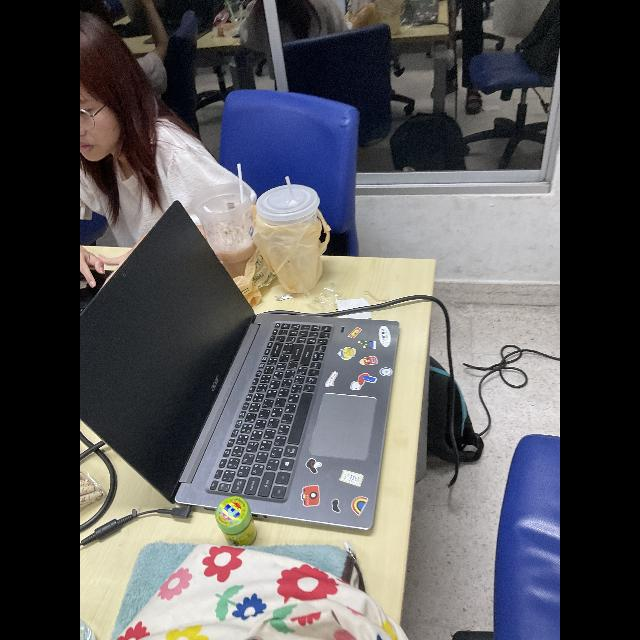plastic_bag: (252, 213, 330, 294), (222, 247, 282, 305)
plastic_bottle_cap: (256, 179, 322, 225)
plastic_cultery: (204, 206, 226, 226)
plastic_cup: (194, 180, 258, 280)
scrap_paper: (334, 296, 374, 322)
straw: (235, 163, 245, 209), (284, 176, 296, 198)
